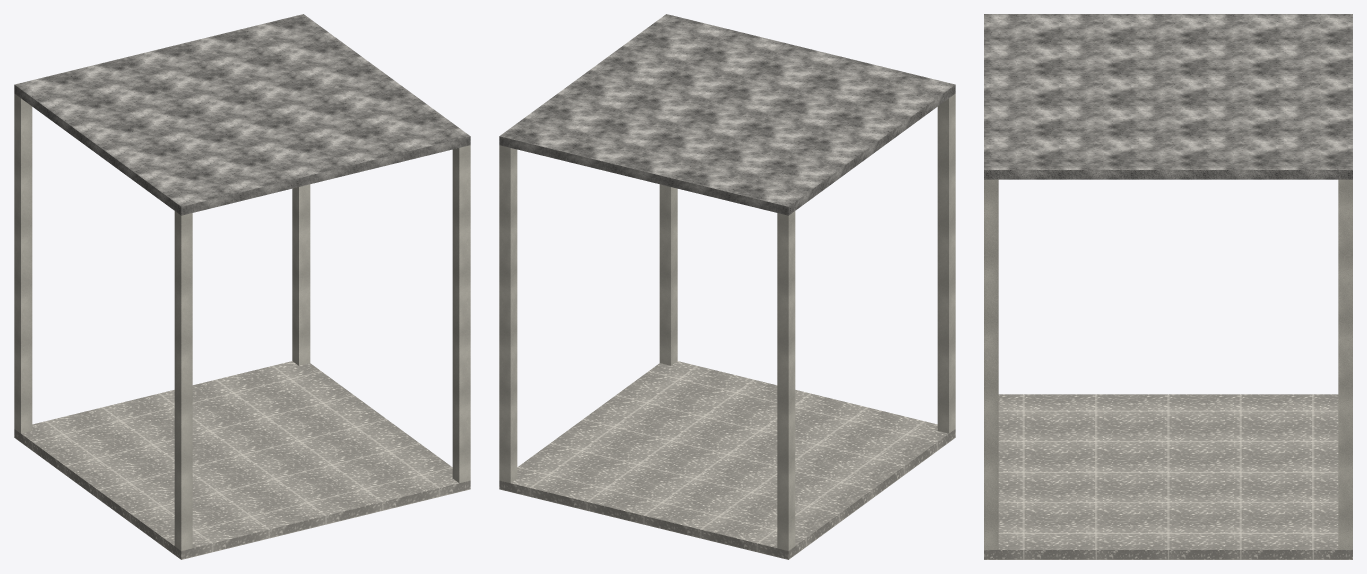
File: courthouse.fbx
3 views of the same model, side by side, from view 1: azimuth 30°, elevation 25°; view 2: azimuth 150°, elevation 25°; view 3: azimuth 270°, elevation 25° (orthographic). The views are drawn at different scales.
Visible parts, largest first — view 1: courthouse; view 2: courthouse; view 3: courthouse.
Boxes of the visible parts, bbox=[...] form: courthouse: bbox=[14, 14, 470, 559]; courthouse: bbox=[499, 14, 955, 559]; courthouse: bbox=[984, 14, 1352, 559].
Size of the model in its own units: 510 by 595 by 510.
